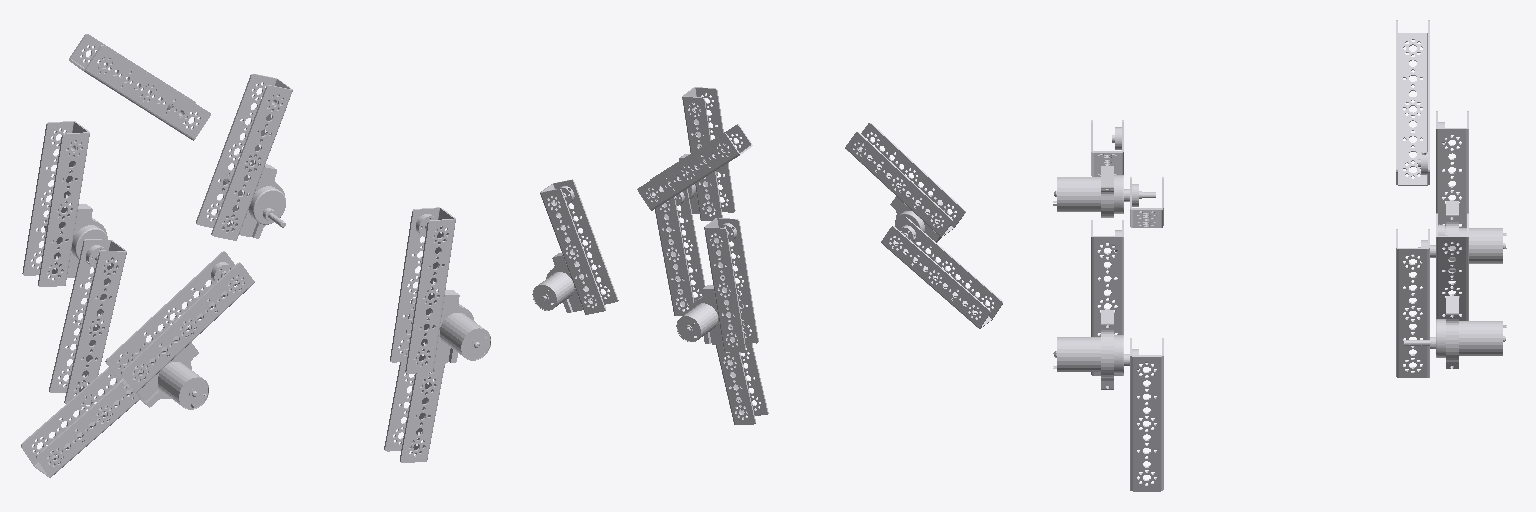
The robot description file, URDF, robot "Assem1URDF":
<robot
  name="Assem1URDF">
  <link
    name="base_link">
    <inertial>
      <origin
        xyz="-0.13267 0.16017 0.23431"
        rpy="0 0 0" />
      <mass
        value="2.5721" />
      <inertia
        ixx="0.03327"
        ixy="0.00022821"
        ixz="6.7772E-05"
        iyy="0.069604"
        iyz="-2.8438E-05"
        izz="0.036718" />
    </inertial>
    <visual>
      <origin
        xyz="0 0 0"
        rpy="0 0 0" />
      <geometry>
        <mesh
          filename="package://Assem1URDF/meshes/base_link.STL" />
      </geometry>
      <material
        name="">
        <color
          rgba="0.77647 0.77647 0.81569 1" />
      </material>
    </visual>
    <collision>
      <origin
        xyz="0 0 0"
        rpy="0 0 0" />
      <geometry>
        <mesh
          filename="package://Assem1URDF/meshes/base_link.STL" />
      </geometry>
    </collision>
  </link>
  <link
    name="RBT">
    <inertial>
      <origin
        xyz="0.041339 -0.0033569 0.10038"
        rpy="0 0 0" />
      <mass
        value="0.59865" />
      <inertia
        ixx="0.00022588"
        ixy="-1.7655E-05"
        ixz="4.8593E-05"
        iyy="0.00023755"
        iyz="5.0544E-05"
        izz="5.3418E-05" />
    </inertial>
    <visual>
      <origin
        xyz="0 0 0"
        rpy="0 0 0" />
      <geometry>
        <mesh
          filename="package://Assem1URDF/meshes/RBT.STL" />
      </geometry>
      <material
        name="">
        <color
          rgba="0.86667 0.86667 0.8902 1" />
      </material>
    </visual>
    <collision>
      <origin
        xyz="0 0 0"
        rpy="0 0 0" />
      <geometry>
        <mesh
          filename="package://Assem1URDF/meshes/RBT.STL" />
      </geometry>
    </collision>
  </link>
  <joint
    name="RightBackThigh"
    type="continuous">
    <origin
      xyz="-0.24691 -0.016158 0.16403"
      rpy="-2.9685 -6.123E-17 -1.5708" />
    <parent
      link="base_link" />
    <child
      link="RBT" />
    <axis
      xyz="1 0 0" />
  </joint>
  <link
    name="RBC">
    <inertial>
      <origin
        xyz="-0.054114 0.16005 0.015143"
        rpy="0 0 0" />
      <mass
        value="0.071245" />
      <inertia
        ixx="2.2544E-05"
        ixy="1.3748E-06"
        ixz="2.2552E-07"
        iyy="6.7683E-07"
        iyz="-3.6012E-06"
        izz="2.204E-05" />
    </inertial>
    <visual>
      <origin
        xyz="0 0 0"
        rpy="0 0 0" />
      <geometry>
        <mesh
          filename="package://Assem1URDF/meshes/RBC.STL" />
      </geometry>
      <material
        name="">
        <color
          rgba="0.86667 0.86667 0.8902 1" />
      </material>
    </visual>
    <collision>
      <origin
        xyz="0 0 0"
        rpy="0 0 0" />
      <geometry>
        <mesh
          filename="package://Assem1URDF/meshes/RBC.STL" />
      </geometry>
    </collision>
  </link>
  <joint
    name="RightBackCalf"
    type="continuous">
    <origin
      xyz="0.0738 0 0"
      rpy="1.5708 0.42618 1.5708" />
    <parent
      link="RBT" />
    <child
      link="RBC" />
    <axis
      xyz="0 0 1" />
  </joint>
  <link
    name="RFT">
    <inertial>
      <origin
        xyz="-0.037222 -0.093284 -0.041339"
        rpy="0 0 0" />
      <mass
        value="0.59865" />
      <inertia
        ixx="0.00018408"
        ixy="-9.768E-05"
        ixz="3.3097E-05"
        iyy="0.00010689"
        iyz="3.9718E-05"
        izz="0.00022588" />
    </inertial>
    <visual>
      <origin
        xyz="0 0 0"
        rpy="0 0 0" />
      <geometry>
        <mesh
          filename="package://Assem1URDF/meshes/RFT.STL" />
      </geometry>
      <material
        name="">
        <color
          rgba="0.86667 0.86667 0.8902 1" />
      </material>
    </visual>
    <collision>
      <origin
        xyz="0 0 0"
        rpy="0 0 0" />
      <geometry>
        <mesh
          filename="package://Assem1URDF/meshes/RFT.STL" />
      </geometry>
    </collision>
  </link>
  <joint
    name="RightFrontThigh"
    type="continuous">
    <origin
      xyz="-0.022914 -0.016158 0.16203"
      rpy="1.5708 -0.40569 3.1416" />
    <parent
      link="base_link" />
    <child
      link="RFT" />
    <axis
      xyz="0 0 -1" />
  </joint>
  <link
    name="RFC">
    <inertial>
      <origin
        xyz="-0.015143 -0.1016 0.13498"
        rpy="0 0 0" />
      <mass
        value="0.071245" />
      <inertia
        ixx="2.204E-05"
        ixy="-2.846E-06"
        ixz="2.2181E-06"
        iyy="8.9192E-06"
        iyz="1.0686E-05"
        izz="1.4302E-05" />
    </inertial>
    <visual>
      <origin
        xyz="0 0 0"
        rpy="0 0 0" />
      <geometry>
        <mesh
          filename="package://Assem1URDF/meshes/RFC.STL" />
      </geometry>
      <material
        name="">
        <color
          rgba="0.86667 0.86667 0.8902 1" />
      </material>
    </visual>
    <collision>
      <origin
        xyz="0 0 0"
        rpy="0 0 0" />
      <geometry>
        <mesh
          filename="package://Assem1URDF/meshes/RFC.STL" />
      </geometry>
    </collision>
  </link>
  <joint
    name="RightFrontCalf"
    type="continuous">
    <origin
      xyz="0 0 -0.0738"
      rpy="2.4621 -1.5708 0" />
    <parent
      link="RFT" />
    <child
      link="RFC" />
    <axis
      xyz="-1 0 0" />
  </joint>
  <link
    name="LFT">
    <inertial>
      <origin
        xyz="0.057461 -0.00076535 0.10445"
        rpy="0 0 0" />
      <mass
        value="0.59865" />
      <inertia
        ixx="0.00022661"
        ixy="1.8845E-05"
        ixz="-4.8236E-05"
        iyy="0.00023577"
        iyz="5.5049E-05"
        izz="5.5932E-05" />
    </inertial>
    <visual>
      <origin
        xyz="0 0 0"
        rpy="0 0 0" />
      <geometry>
        <mesh
          filename="package://Assem1URDF/meshes/LFT.STL" />
      </geometry>
      <material
        name="">
        <color
          rgba="0.86667 0.86667 0.8902 1" />
      </material>
    </visual>
    <collision>
      <origin
        xyz="0 0 0"
        rpy="0 0 0" />
      <geometry>
        <mesh
          filename="package://Assem1URDF/meshes/LFT.STL" />
      </geometry>
    </collision>
  </link>
  <joint
    name="LeftFrontThigh"
    type="continuous">
    <origin
      xyz="-0.022059110505708 -0.351033039401595 0.15758942560064"
      rpy="-2.98034865602211 -6.12303176911189E-17 -1.5707963267949" />
    <parent
      link="base_link" />
    <child
      link="LFT" />
    <axis
      xyz="1 0 0" />
  </joint>
  <link
    name="LFC">
    <inertial>
      <origin
        xyz="-0.016857 -0.022053 0.17269"
        rpy="0 0 0" />
      <mass
        value="0.071245" />
      <inertia
        ixx="2.2112E-05"
        ixy="1.1852E-06"
        ixz="-3.4143E-06"
        iyy="2.0324E-05"
        iyz="6.8503E-06"
        izz="2.9687E-06" />
    </inertial>
    <visual>
      <origin
        xyz="0 0 0"
        rpy="0 0 0" />
      <geometry>
        <mesh
          filename="package://Assem1URDF/meshes/LFC.STL" />
      </geometry>
      <material
        name="">
        <color
          rgba="0.86667 0.86667 0.8902 1" />
      </material>
    </visual>
    <collision>
      <origin
        xyz="0 0 0"
        rpy="0 0 0" />
      <geometry>
        <mesh
          filename="package://Assem1URDF/meshes/LFC.STL" />
      </geometry>
    </collision>
  </link>
  <joint
    name="LeftFrontCalf"
    type="continuous">
    <origin
      xyz="-0.007 0 0"
      rpy="-0.037806 0 3.1416" />
    <parent
      link="LFT" />
    <child
      link="LFC" />
    <axis
      xyz="-1 0 0" />
  </joint>
  <link
    name="LBT">
    <inertial>
      <origin
        xyz="0.0574613729462557 0.104130398290294 -0.00822721385878156"
        rpy="0 0 0" />
      <mass
        value="0.598647188023967" />
      <inertia
        ixx="0.00022660977781291"
        ixy="-4.96787698936054E-05"
        ixz="-1.46236618602005E-05"
        iyy="4.78232134186188E-05"
        iyz="-3.88131014442757E-05"
        izz="0.000243877178914602" />
    </inertial>
    <visual>
      <origin
        xyz="0 0 0"
        rpy="0 0 0" />
      <geometry>
        <mesh
          filename="package://Assem1URDF/meshes/LBT.STL" />
      </geometry>
      <material
        name="">
        <color
          rgba="0.866666666666667 0.866666666666667 0.890196078431373 1" />
      </material>
    </visual>
    <collision>
      <origin
        xyz="0 0 0"
        rpy="0 0 0" />
      <geometry>
        <mesh
          filename="package://Assem1URDF/meshes/LBT.STL" />
      </geometry>
    </collision>
  </link>
  <joint
    name="LeftBackThigh"
    type="continuous">
    <origin
      xyz="-0.25137 -0.35103 0.1593"
      rpy="-2.1519 -6.123E-17 -1.5708" />
    <parent
      link="base_link" />
    <child
      link="LBT" />
    <axis
      xyz="1 0 0" />
  </joint>
  <link
    name="LBC">
    <inertial>
      <origin
        xyz="-0.0168573376488852 -0.17014734912298 -0.0368339122598292"
        rpy="0 0 0" />
      <mass
        value="0.0712454052693922" />
      <inertia
        ixx="2.21116354308369E-05"
        ixy="3.29961175832391E-06"
        ixz="1.47467321431479E-06"
        iyy="4.27201953617011E-06"
        iyz="-8.23695197422103E-06"
        izz="1.90210842564751E-05" />
    </inertial>
    <visual>
      <origin
        xyz="0 0 0"
        rpy="0 0 0" />
      <geometry>
        <mesh
          filename="package://Assem1URDF/meshes/LBC.STL" />
      </geometry>
      <material
        name="">
        <color
          rgba="0.866666666666667 0.866666666666667 0.890196078431373 1" />
      </material>
    </visual>
    <collision>
      <origin
        xyz="0 0 0"
        rpy="0 0 0" />
      <geometry>
        <mesh
          filename="package://Assem1URDF/meshes/LBC.STL" />
      </geometry>
    </collision>
  </link>
  <joint
    name="LeftBackCalf"
    type="continuous">
    <origin
      xyz="-0.007 0 0"
      rpy="-0.037806 0 3.1416" />
    <parent
      link="LBT" />
    <child
      link="LBC" />
    <axis
      xyz="-1 0 0" />
  </joint>
</robot>

--- What the picture shows (computed from the rendered views, not written in the file) ---
3 views of the same robot in one strip: view 1: azimuth 30°, elevation 25°; view 2: azimuth 150°, elevation 25°; view 3: azimuth 270°, elevation 25° (orthographic).
Model Assem1URDF with 9 links and 8 joints (8 continuous), rooted at base_link, posed all joints at 0.
Links seen in each view (by area): view 1: LBT, LFT, RFT, RBT, RBC, LBC, RFC, LFC; view 2: RFT, RBT, LBT, LBC, LFC, LFT, RFC, RBC; view 3: LFT, RFT, RBT, RFC, LFC, RBC, LBT, LBC.
Link boxes in pixels (x1,y1,x2,y2): LBT: (105, 251, 254, 409); LFT: (390, 207, 490, 373); RFT: (196, 74, 292, 240); RBT: (22, 121, 108, 286); RBC: (49, 239, 126, 404); LBC: (21, 343, 143, 477); RFC: (69, 34, 210, 140); LFC: (384, 298, 444, 462); RFT: (532, 179, 618, 314); RBT: (676, 218, 758, 352); LBT: (845, 123, 965, 246); LBC: (881, 217, 1002, 328); LFC: (655, 182, 704, 315); LFT: (669, 87, 735, 220); RFC: (637, 124, 752, 210); RBC: (716, 291, 768, 424); LFT: (1053, 220, 1147, 389); RFT: (1404, 213, 1506, 368); RBT: (1412, 111, 1506, 280); RFC: (1396, 20, 1429, 185); LFC: (1130, 338, 1163, 491); RBC: (1396, 229, 1429, 377); LBT: (1053, 120, 1155, 217); LBC: (1130, 177, 1163, 227).
Bounding box of the posed robot: 0.4749 × 0.4337 × 0.3943 m (x, y, z).
Meshes: 9 distinct files referenced, 8 mesh visuals loaded (8 binary STL); not drawn: 1 (reference not matched to a file when rendering).